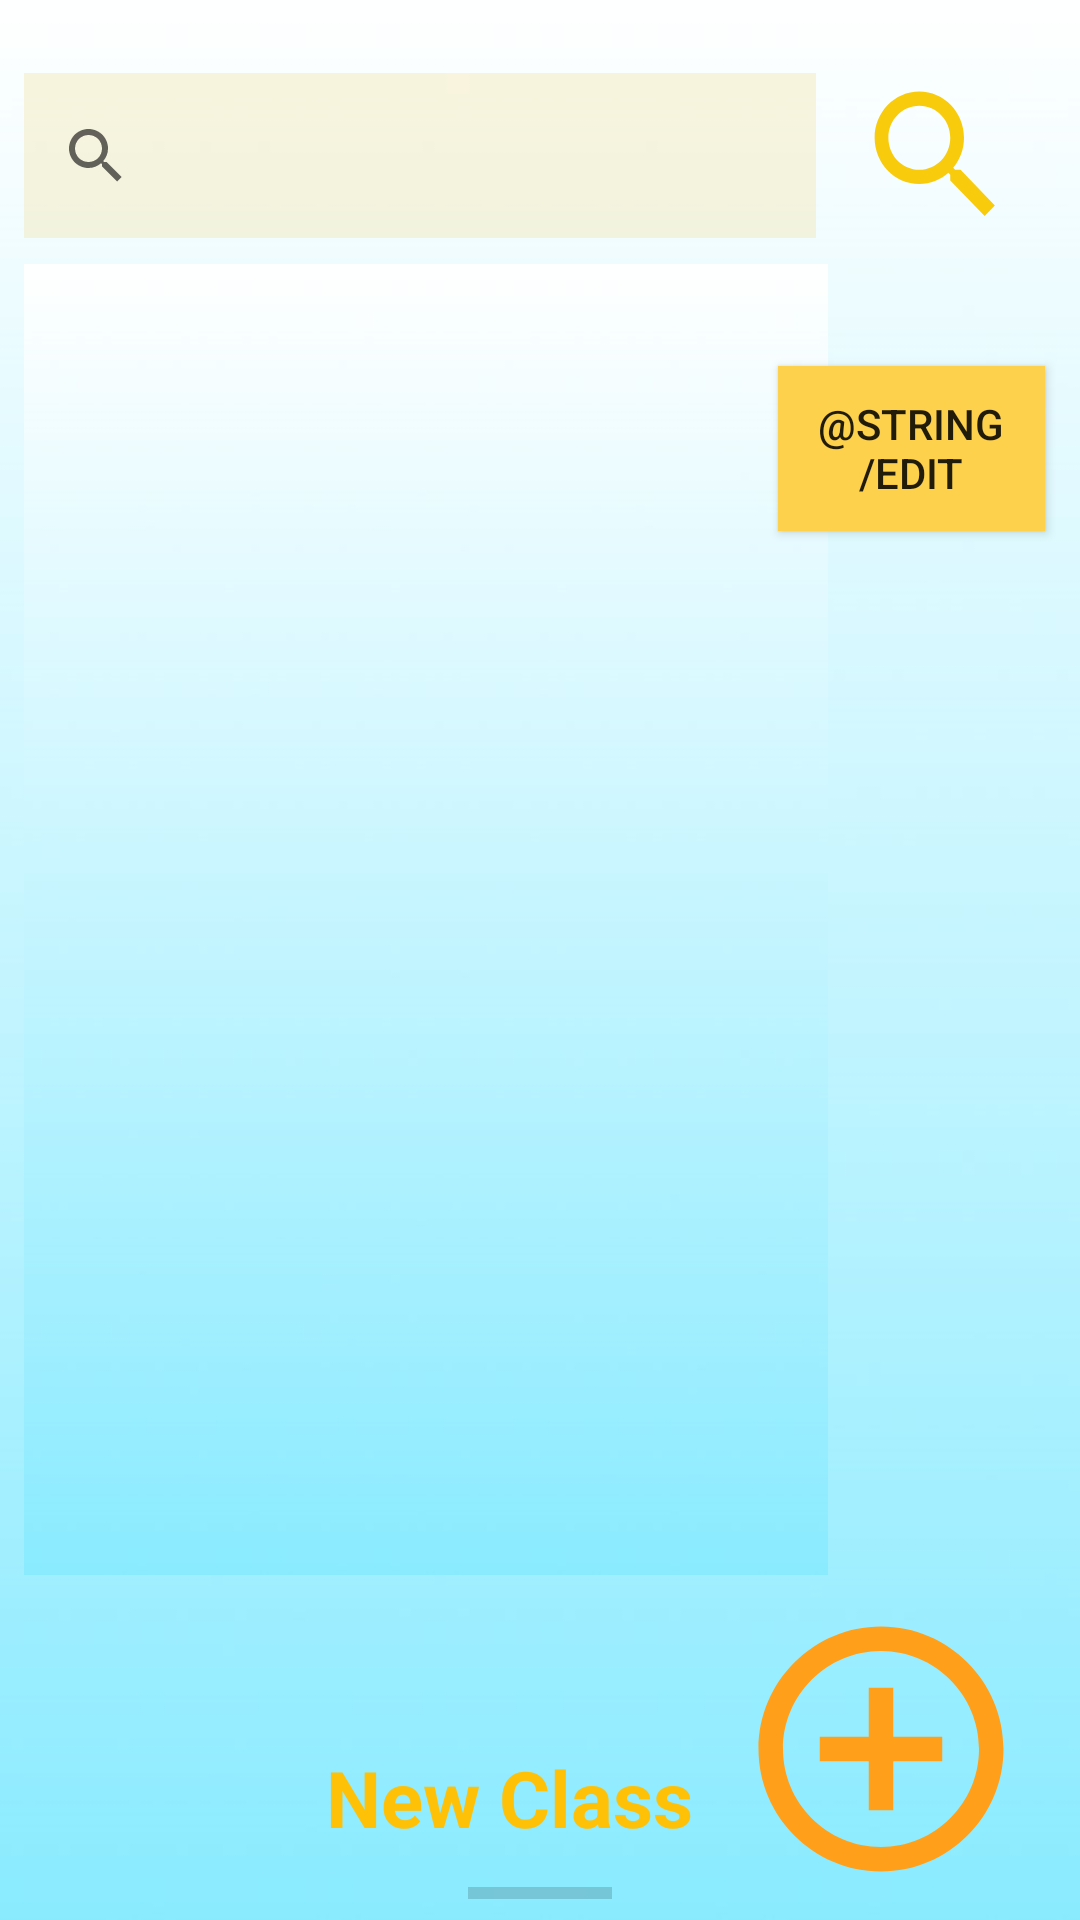

Icons on this 1080*1920 Android screen, each with its box as bbox=[x1, y1, x2, y2]:
control point: bbox=[758, 1626, 1004, 1872]
search: bbox=[874, 91, 995, 216]
